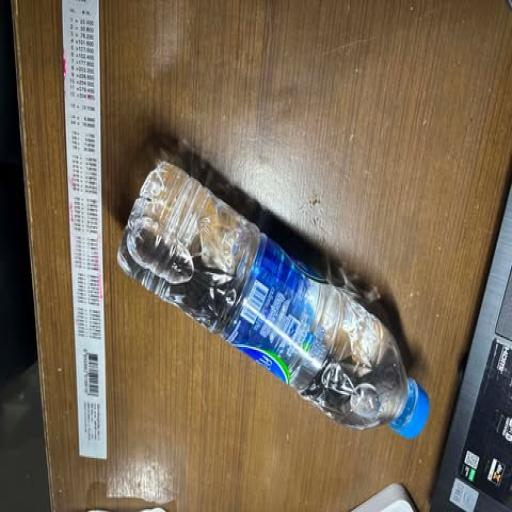bottle: (95, 120, 443, 455)
